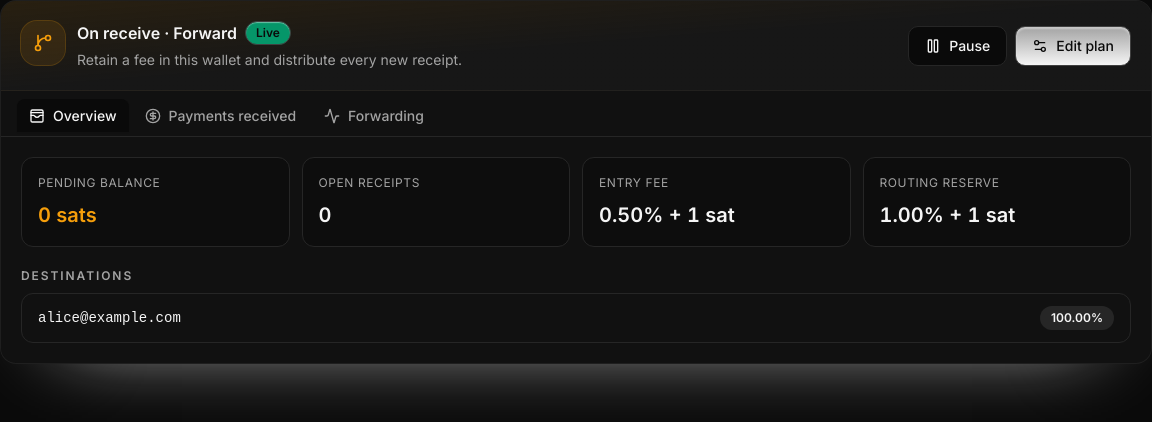
it: RemoteWalletForwardingPanel › Payments received empty-state copy › uses the standard message for an active wallet with no payments
Click the tab "Payments received".
click(220, 116)  # box top-left (132, 99), bottom-right (308, 132)
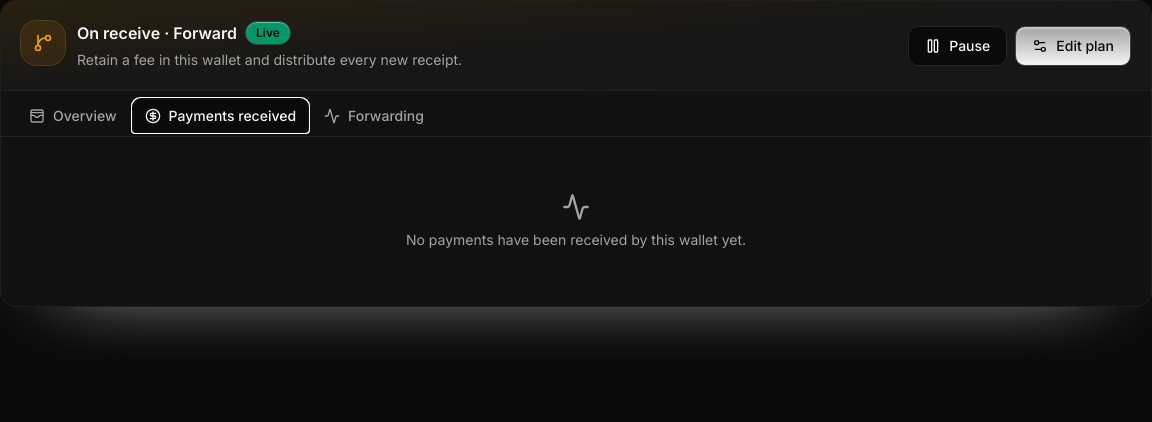
Expected: the text "No payments have been received by this wallet yet." is shown, top-left (406, 229), bottom-right (746, 250)
